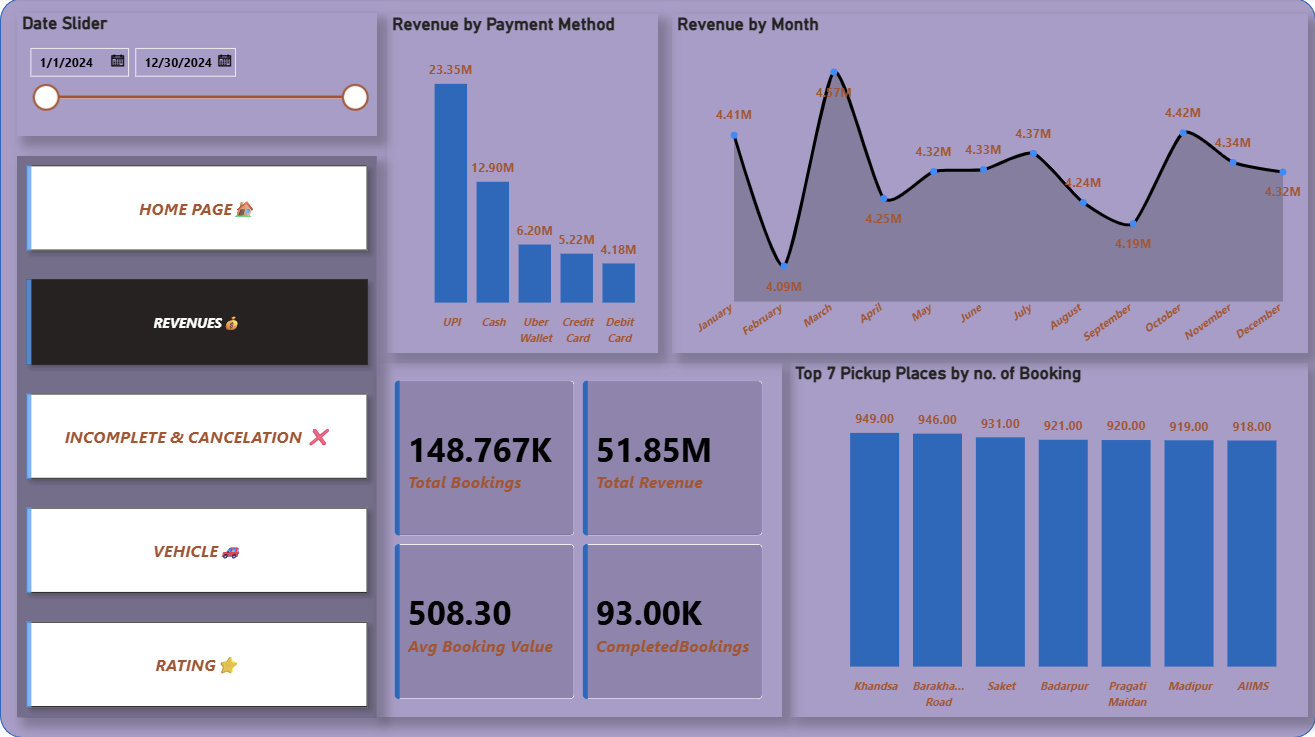

Layout of this report page (visuals, bound fields, positions):
{"tool":"powerbi","page":{"name":"REVENUES💰 ","canvas":[1280,720],"ordinal":1},"visuals":[{"type":"shape","box":[0,0,1280,719.8],"z":0},{"type":"lineChart","title":"Revenue by Month","fields":{"Category":["ncr_ride_bookings.Date.Variation.Date Hierarchy.Year","ncr_ride_bookings.Date.Variation.Date Hierarchy.Quarter","ncr_ride_bookings.Date.Variation.Date Hierarchy.Month","ncr_ride_bookings.Date.Variation.Date Hierarchy.Day"],"Y":["Sum(ncr_ride_bookings.Booking Value)"]},"box":[653.6,15.6,618.6,329.7],"z":1000},{"type":"lineStackedColumnComboChart","title":"Revenue by Payment Method","fields":{"Category":["ncr_ride_bookings.Payment Method"],"Y":["Sum(ncr_ride_bookings.Booking Value)"]},"box":[376.4,15.6,263.6,329.7],"z":2000},{"type":"slicer","title":"Date Slider","fields":{"Values":["ncr_ride_bookings.Date"]},"box":[16.5,14.6,350.2,119.6],"z":3000},{"type":"pageNavigator","title":"REVENUE","box":[16.5,153.7,350.2,545.7],"z":4000},{"type":"lineStackedColumnComboChart","title":"Top 7 Pickup Places by no. of Booking","fields":{"Category":["ncr_ride_bookings.Pickup Location"],"Y":["Count(ncr_ride_bookings.Booking ID)"]},"box":[768.4,355,503.8,344.3],"z":5000},{"type":"cardVisual","fields":{"Data":["Count(ncr_ride_bookings.Booking ID)","Sum(ncr_ride_bookings.Booking Value)","Avg(ncr_ride_bookings.Booking Value)","ncr_ride_bookings.CompletedBookings"]},"box":[366.7,355,393.9,344.3],"z":6000}]}

Visuals, with their boxes in screenshot pixels (x1, y1, x2, y2), scaled from the page's 1280x720 canvas onto the 1315x737 screenshot:
shape: {"left": 0, "top": 0, "right": 1314, "bottom": 736}
"Revenue by Month" lineChart: {"left": 671, "top": 16, "right": 1307, "bottom": 353}
"Revenue by Payment Method" lineStackedColumnComboChart: {"left": 387, "top": 16, "right": 658, "bottom": 353}
"Date Slider" slicer: {"left": 17, "top": 15, "right": 377, "bottom": 137}
"REVENUE" pageNavigator: {"left": 17, "top": 157, "right": 377, "bottom": 716}
"Top 7 Pickup Places by no. of Booking" lineStackedColumnComboChart: {"left": 789, "top": 363, "right": 1307, "bottom": 716}
cardVisual - Count(ncr_ride_bookings.Booking ID) x Sum(ncr_ride_bookings.Booking Value): {"left": 377, "top": 363, "right": 781, "bottom": 716}
